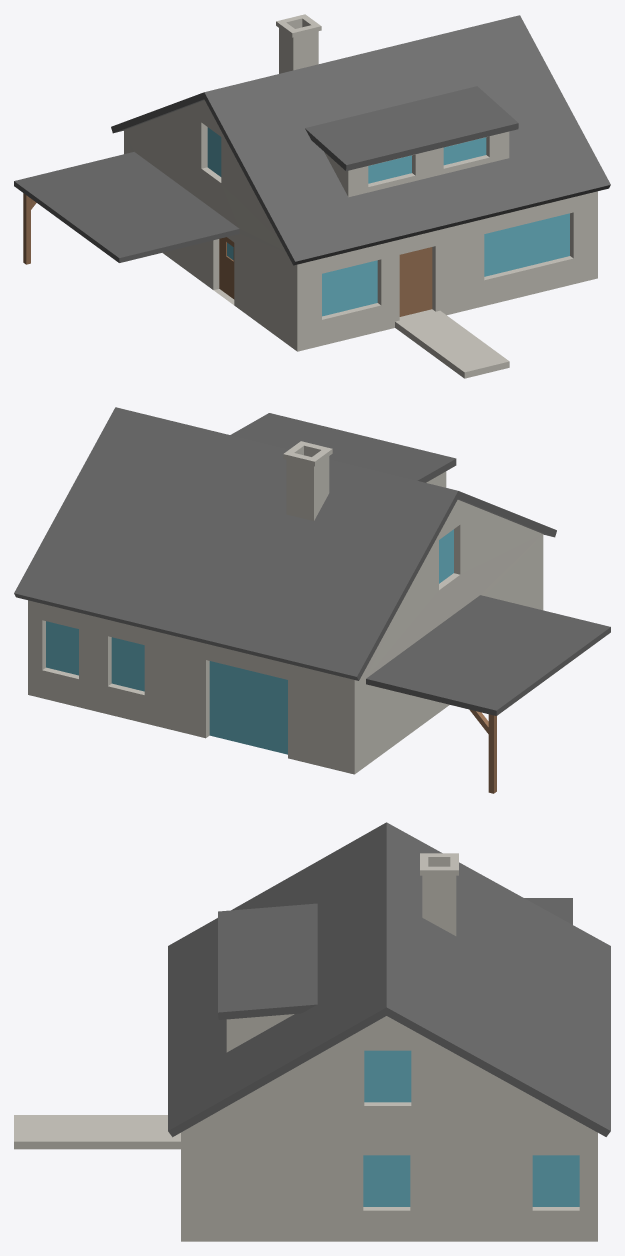
The model's file is house_small_carport_right.gltf.
3 renders of one model, top to bottom at view 1: azimuth 30°, elevation 25°; view 2: azimuth 150°, elevation 25°; view 3: azimuth 270°, elevation 25°, orthographic. The views are drawn at different scales.
Visible parts, largest first — view 1: house-small-carport-right_Cube.019, doorway walkup.006, chimney.006; view 2: house-small-carport-right_Cube.019, chimney.006; view 3: house-small-carport-right_Cube.019, doorway walkup.006, chimney.006.
Boxes of the visible parts, bbox=[...] form: house-small-carport-right_Cube.019: bbox=[14, 15, 610, 351]; doorway walkup.006: bbox=[395, 309, 509, 378]; chimney.006: bbox=[276, 14, 321, 73]; house-small-carport-right_Cube.019: bbox=[14, 407, 610, 793]; chimney.006: bbox=[283, 441, 332, 520]; house-small-carport-right_Cube.019: bbox=[168, 822, 610, 1241]; doorway walkup.006: bbox=[14, 1115, 180, 1149]; chimney.006: bbox=[420, 853, 458, 935].
Bounding box in the file's own units: 7.12 × 3.54 × 7.16.
1 material, 1 textured.
